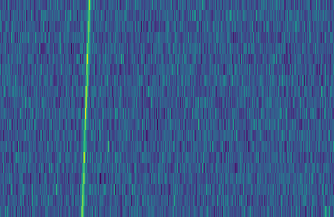signal: (76, 0, 92, 217)
